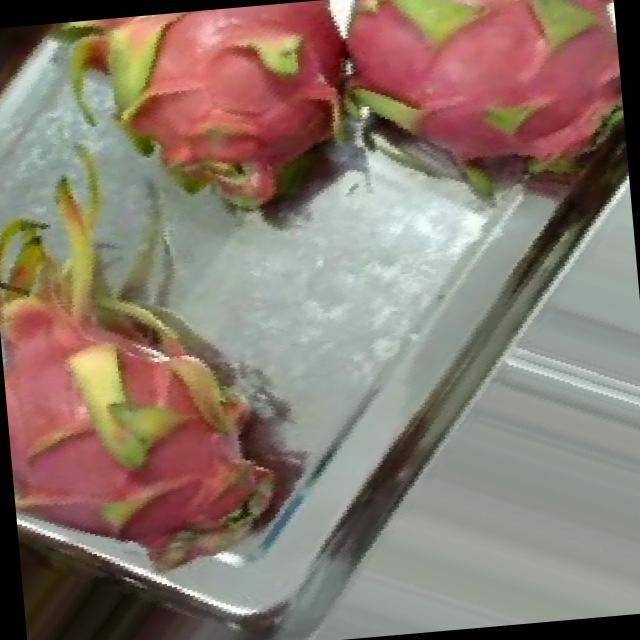Fruit: (0, 19, 97, 143)
